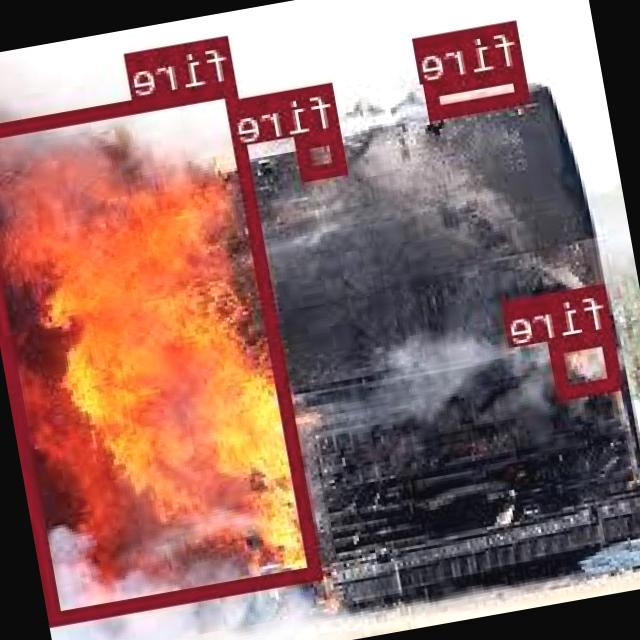fire: (0, 79, 324, 620), (550, 326, 626, 397), (426, 64, 531, 115), (297, 125, 350, 176)
